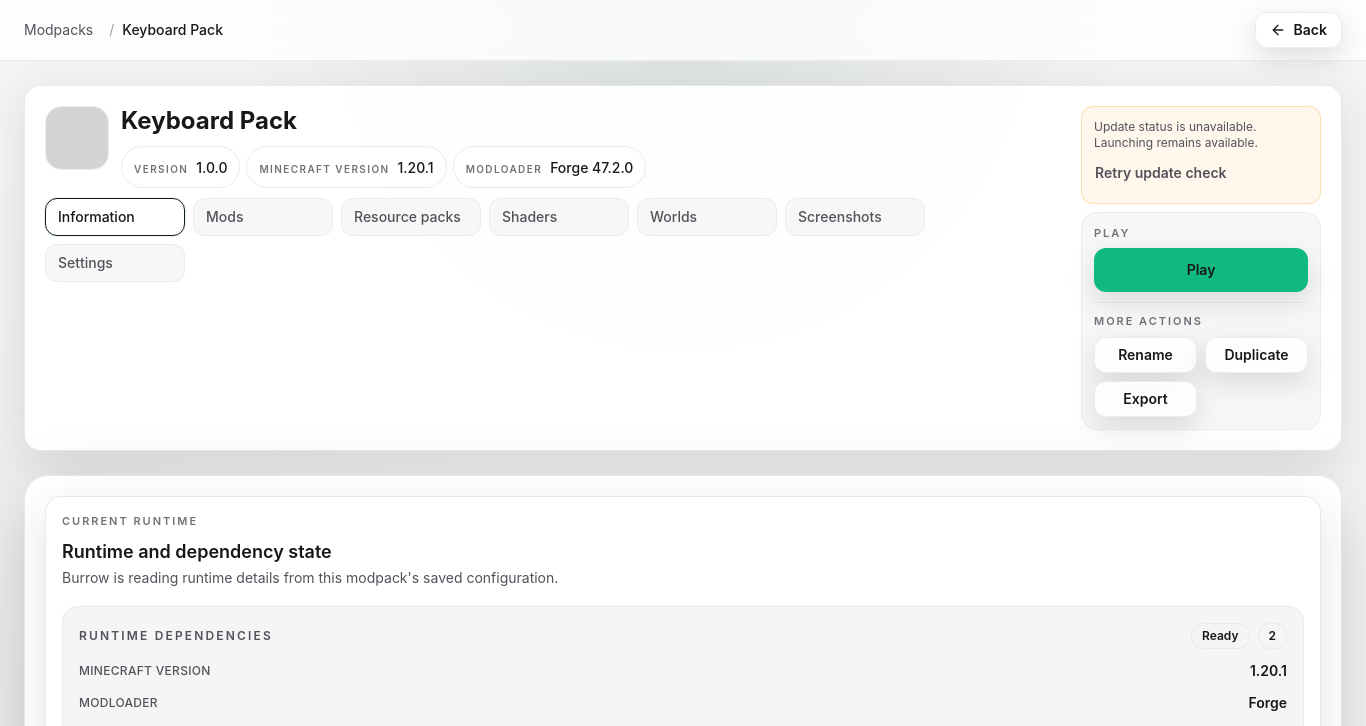
Test: ModpackDetails keyboard, loading and ownership contract › keeps update-check failure non-blocking and retries it without hiding Play
This screenshot has width=1366, height=726.
Expected: the button "Play" is shown, x1=1094 y1=248 x2=1308 y2=292
Expected: the text "Update status is unavailable. Launching remains available." is shown, x1=1094 y1=119 x2=1258 y2=150
Click the button "Retry update check" at [1161, 173], box x1=1094 y1=155 x2=1228 y2=191
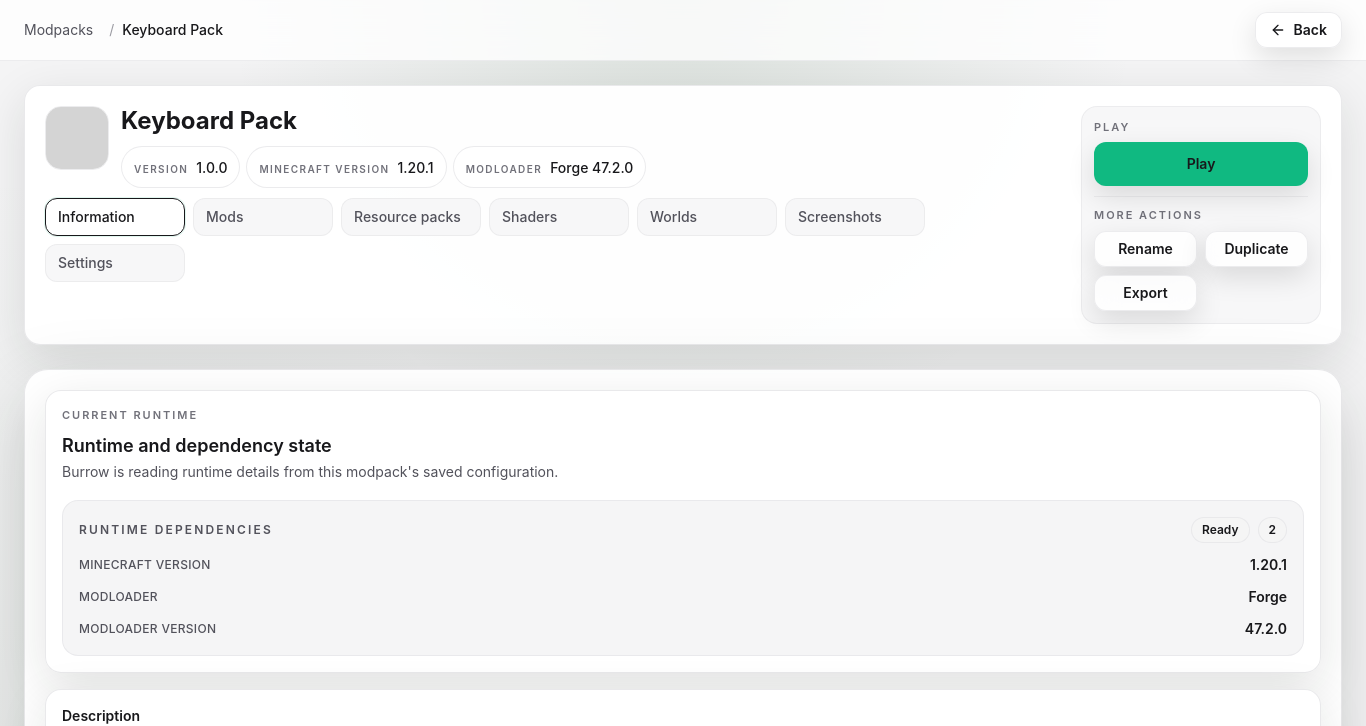
Expected: the button "Play" is shown, x1=1094 y1=142 x2=1308 y2=186
Result: the text "Update status is unavailable. Launching remains available." is gone
